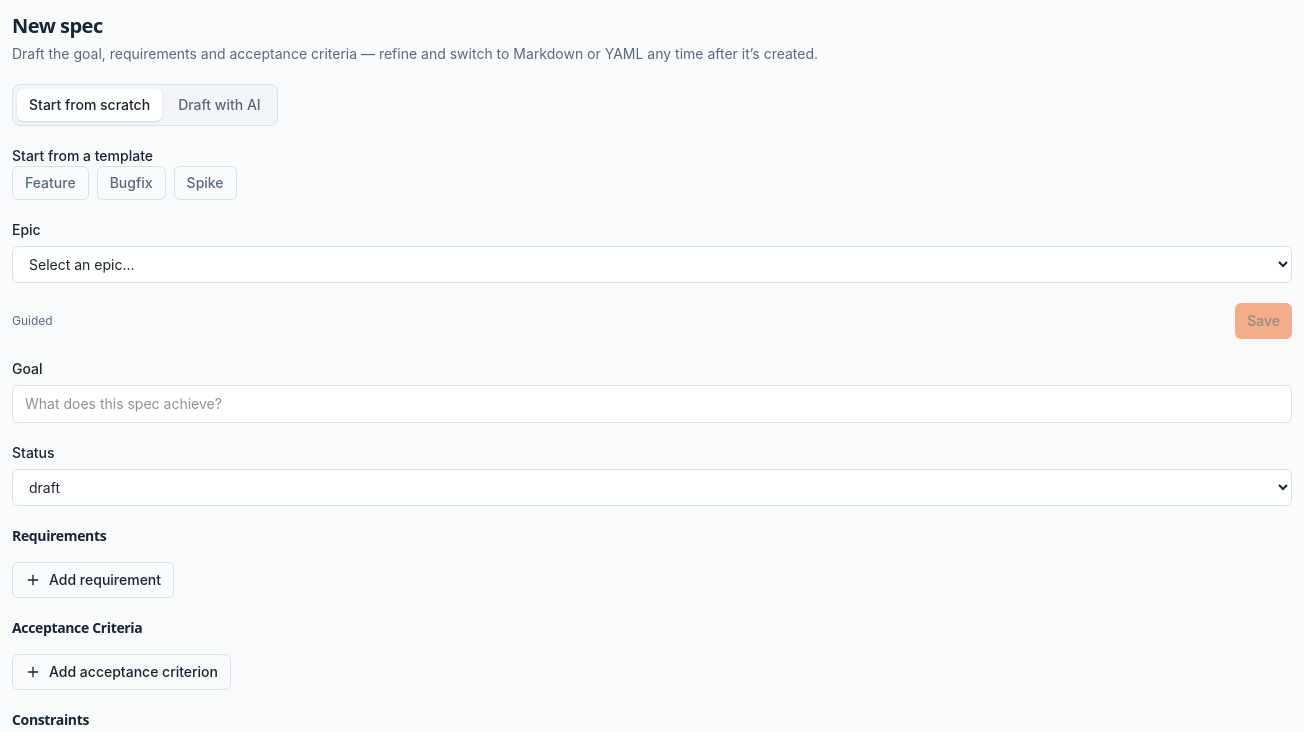
Test: NewSpecPage › Draft with AI entry › hides the AI panel until 'Draft with AI' is selected
The width and height of the screenshot is (1304, 732).
Step 1. Click the tab with test id "new-spec-entry-ai" → (219, 105), box [166,89,273,121]
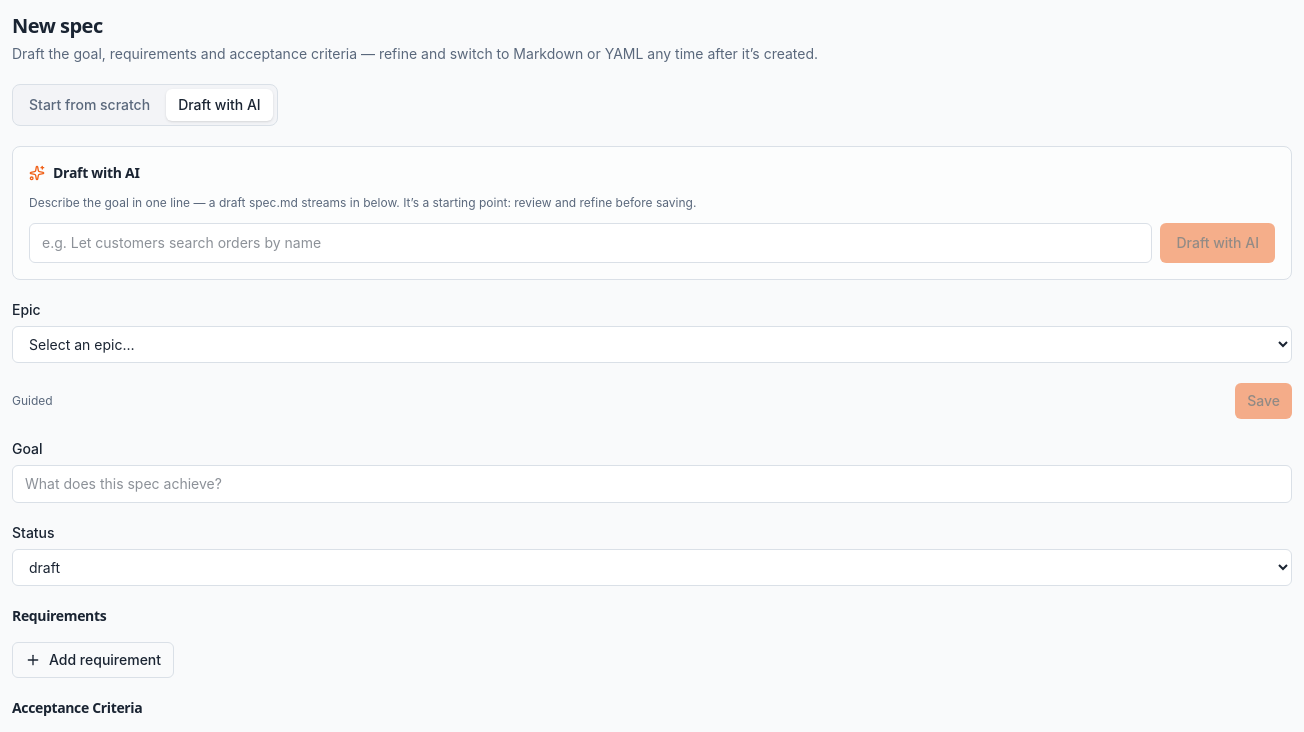
Expected: the element with test id "ai-draft-panel" is shown, [12,146,1292,280]
